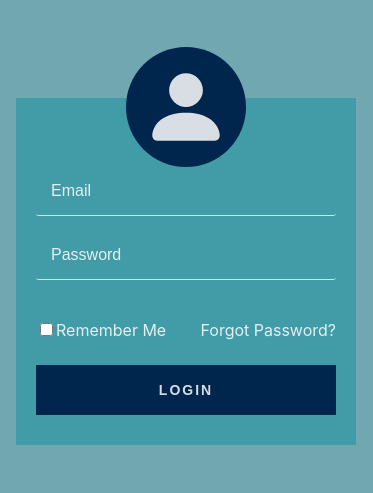
Test case: Test the Login component › submitting the form with an invalid email format should display an error message
Step 1. Type "example" into the field with placeholder "Email" → (186, 191), box 36,166 -> 336,216
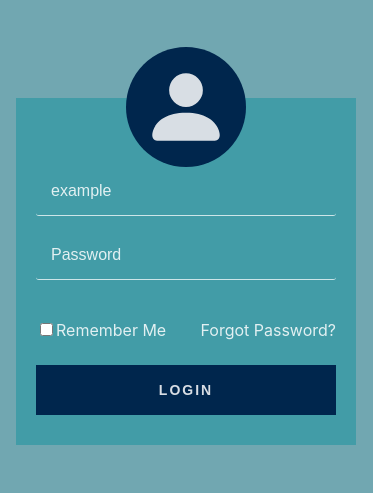
Step 2. Click the button with test id "submit" → (186, 390), box 36,364 -> 336,414
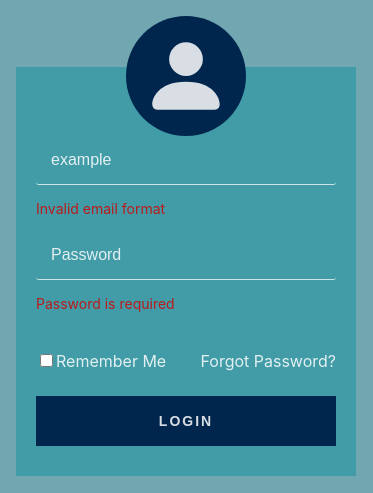
Now the text "Invalid email format" is shown, box 36,200 -> 165,216
